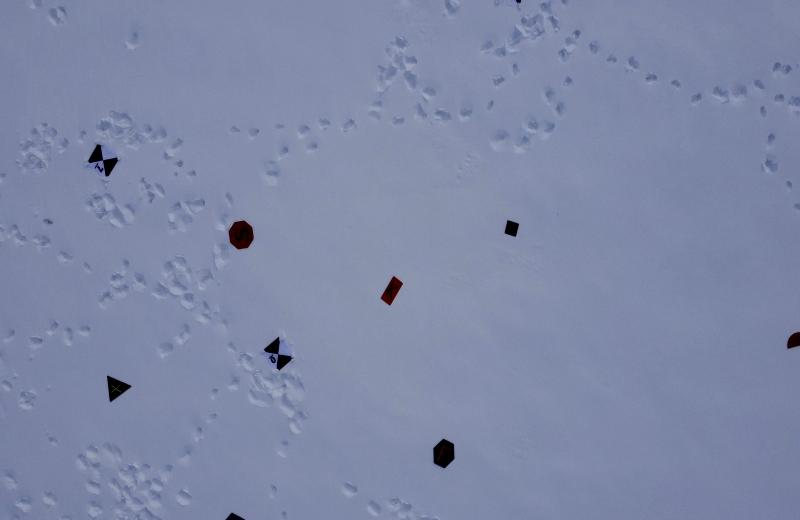Hexagon: (429, 435, 457, 472)
Octagon: (227, 218, 255, 253)
Rectangle: (378, 272, 407, 312)
Semi Circle: (785, 326, 800, 354)
Square: (502, 219, 520, 239)
Triangle: (102, 372, 138, 406)
